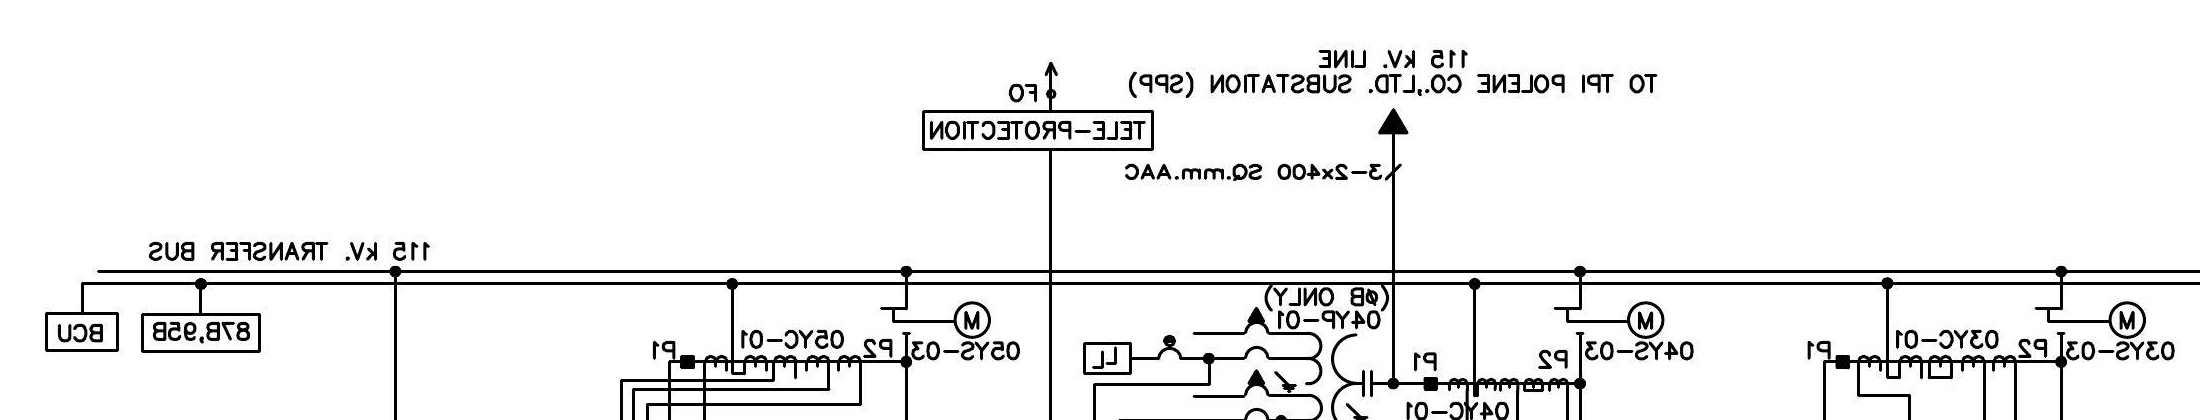115_1way_ds_w_motor: (878, 299, 992, 340), (2034, 301, 2147, 340), (1553, 301, 1665, 340)
BCU: (43, 312, 119, 353)
LL: (1082, 341, 1132, 375)
tele_protection: (922, 110, 1155, 152)
